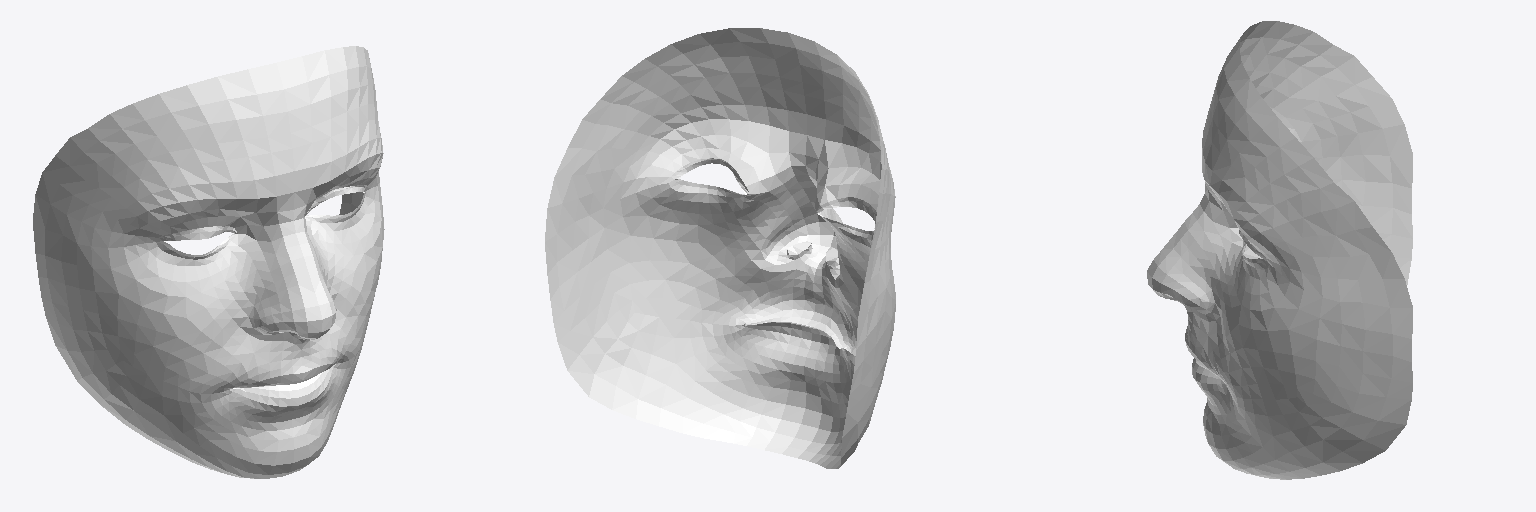
The model's file is eyeLookDown_R.obj.
3 views of the same model, side by side, from view 1: azimuth 30°, elevation 25°; view 2: azimuth 150°, elevation 25°; view 3: azimuth 270°, elevation 25° (orthographic).
Parts seen in each view (by area): view 1: default; view 2: default; view 3: default.
Part boxes in pixels (left/top/right/bottom): default: left=33, top=46, right=384, bottom=478; default: left=545, top=28, right=895, bottom=468; default: left=1147, top=21, right=1412, bottom=479.
Size of the model in its own units: 0.1447 by 0.182 by 0.1055.